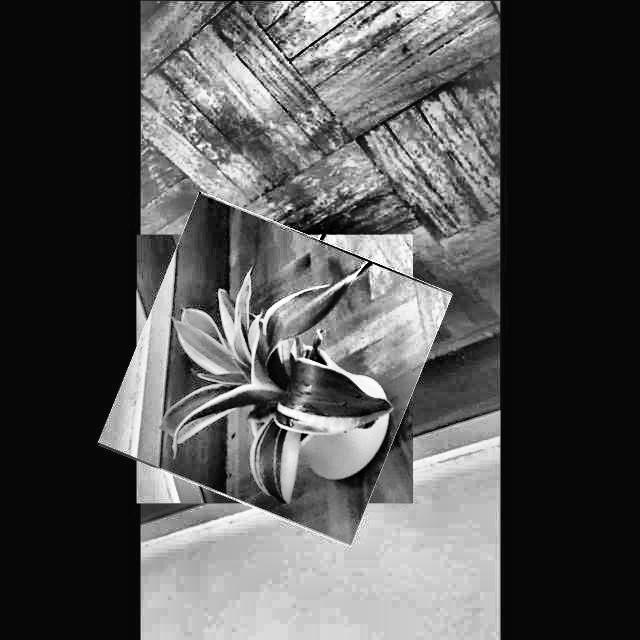plants: (118, 212, 432, 526)
